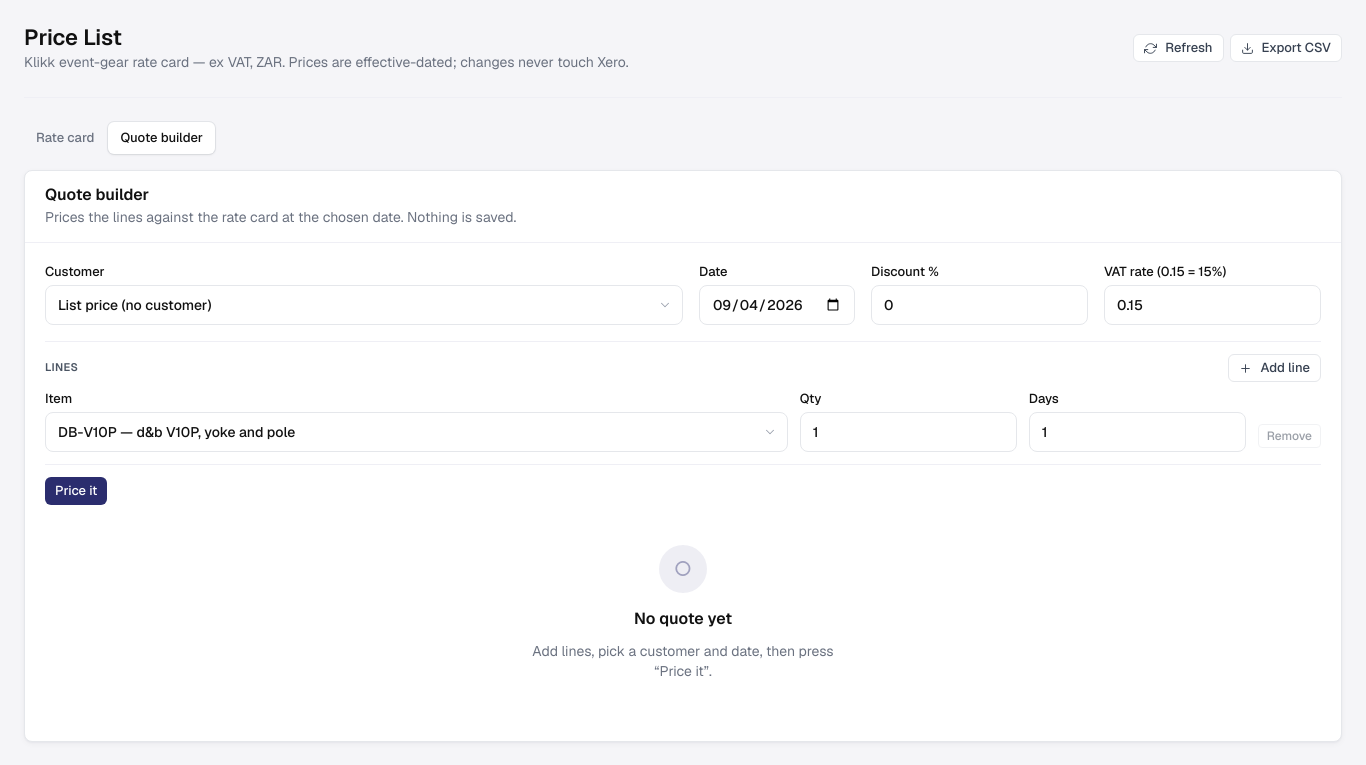
Scenario: Pricelist — quote clipboard text › surfaces a clipboard failure as a visible error
Click the button "Price it".
click(76, 491)  # box [45,477,107,505]
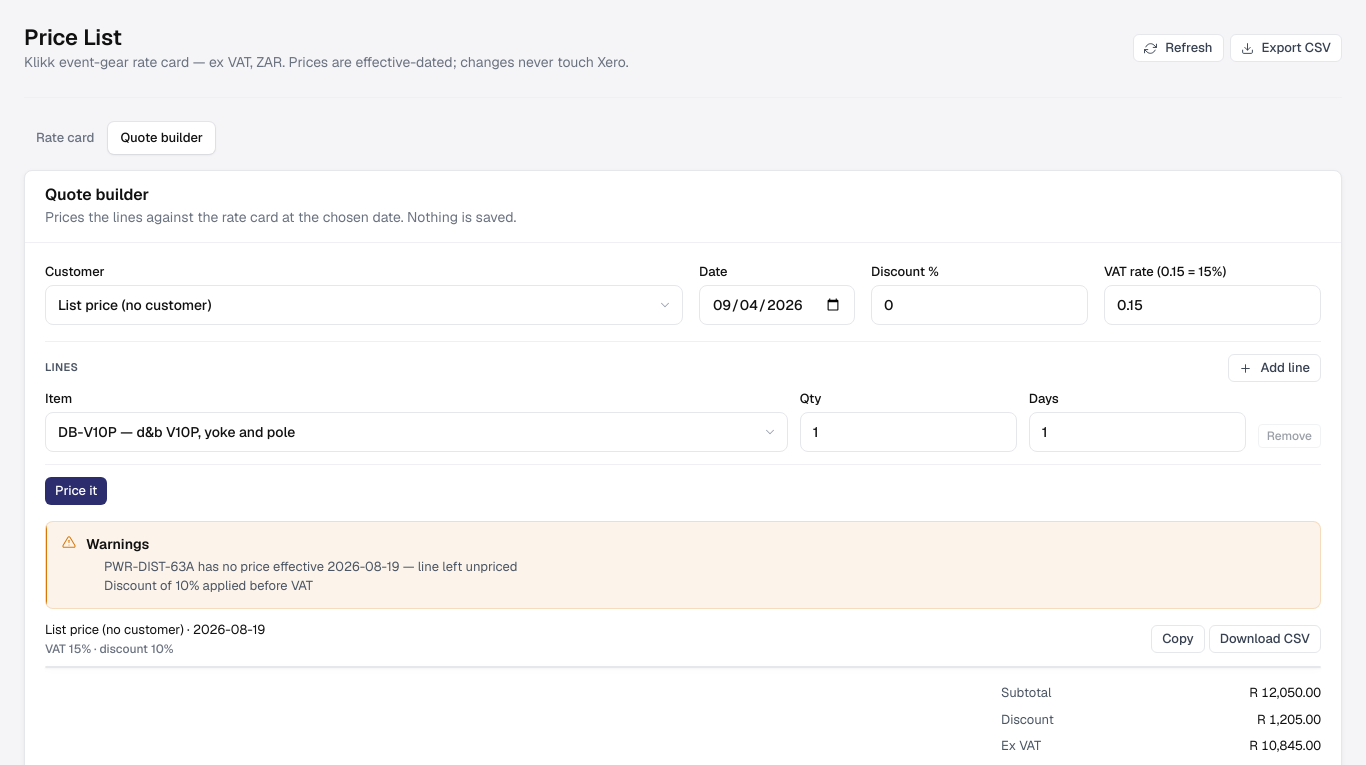
Click the button "Copy".
click(1178, 639)  # box [1151,625,1205,653]
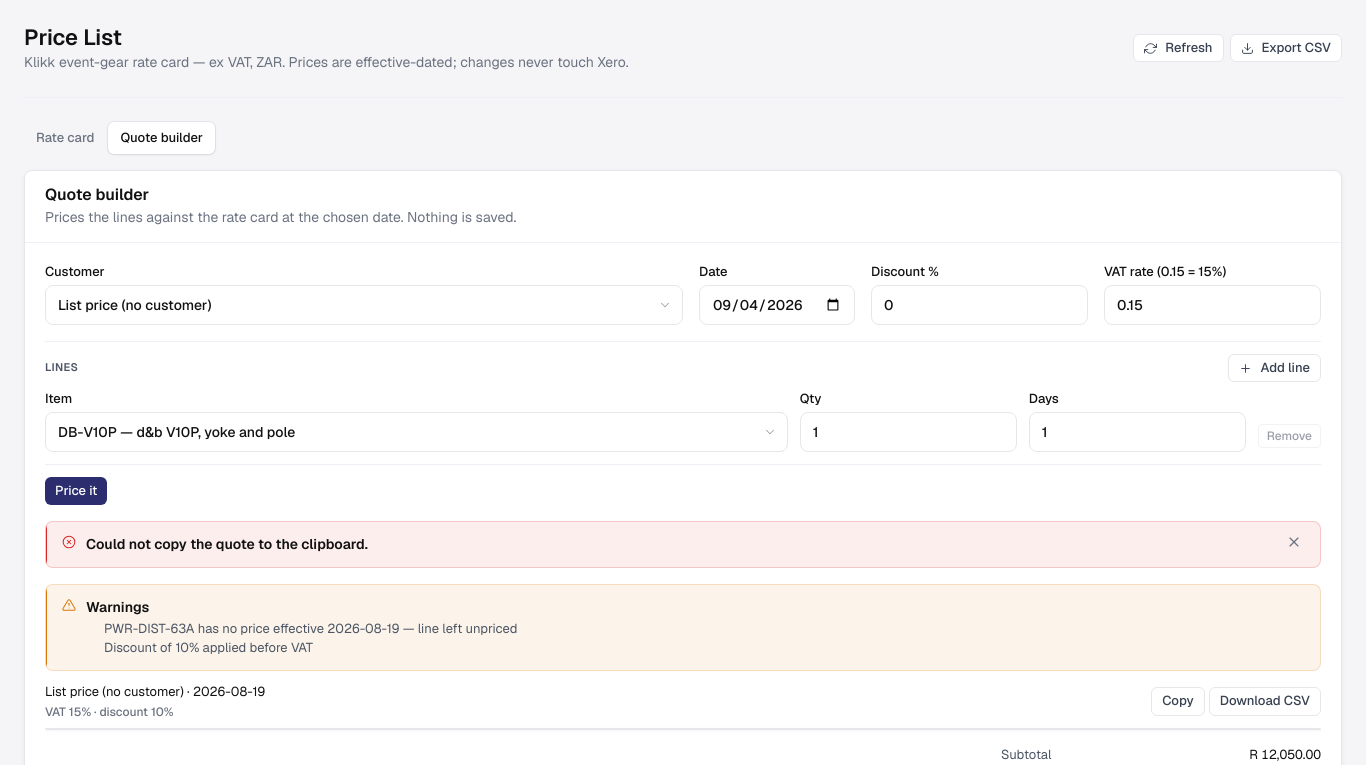
Now the button "Copy" is shown, box [1151,687,1205,716]
Now the message with class "kalert--error" reads "Could not copy the quote to the clipboard.", box [86,535,368,553]
